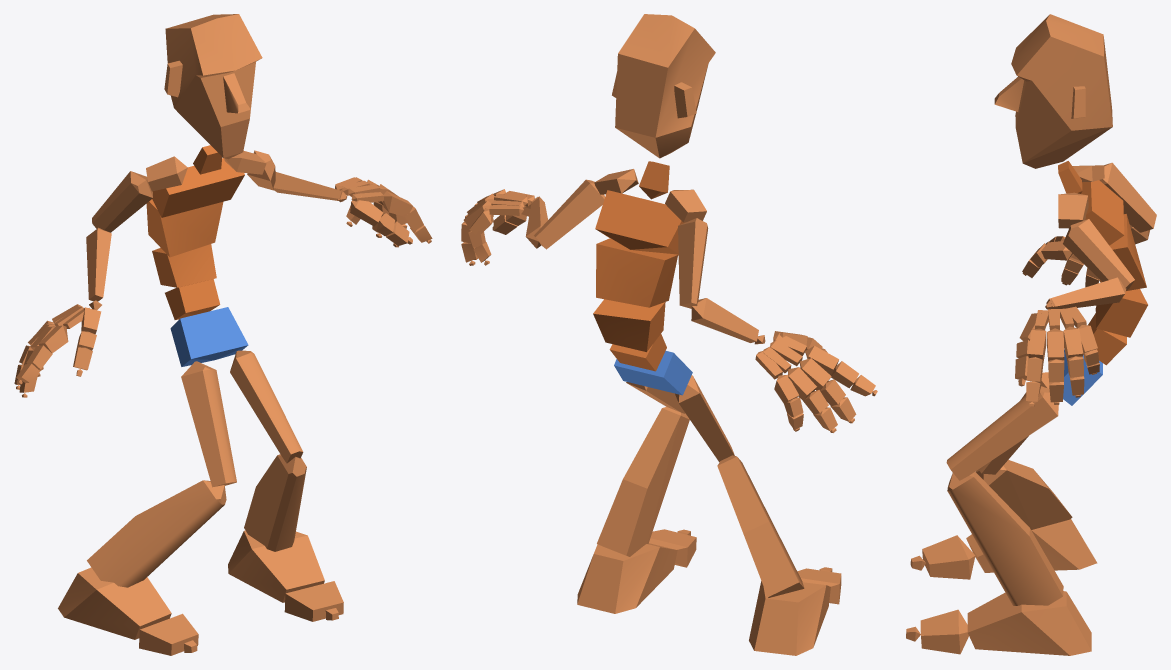
File: prueba251.obj
The picture shows the model from 3 angles, left to right: view 1: azimuth 30°, elevation 25°; view 2: azimuth 150°, elevation 25°; view 3: azimuth 270°, elevation 25°; orthographic projection. The views are drawn at different scales.
Parts seen in each view (by area): view 1: BOPED_Head, BOPED_R_leg, BOPED_R_foot, BOPED_R_foot01, BOPED_L_leg, BOPED_R_legup, Bone01, BOPED_L_legup, Bone04, Bone05, Bone03, BOPED_R_arm_upper (+8 smaller); view 2: BOPED_Head, BOPED_L_leg, BOPED_R_foot01, BOPED_R_leg, BOPED_R_foot, Bone04, Bone05, Bone03, BOPED_R_arm_upper, BOPED_L_arm_upper, BOPED_R_legup, Bone01 (+8 smaller); view 3: BOPED_Head, BOPED_L_leg, BOPED_R_foot01, BOPED_L_legup, BOPED_R_leg, BOPED_R_foot, BOPED_L_arm_upper, Bone05, BOPED_R_foot_toe01, BOPED_R_foot_toe04, Bone03, BOPED_R_arm_upper (+15 smaller).
Boxes of the visible parts, x1,y1,x2,y2 form: BOPED_Head: (164,14,262,159); BOPED_R_leg: (87,480,226,587); BOPED_R_foot: (58,567,171,639); BOPED_R_foot01: (228,530,324,602); BOPED_L_leg: (244,454,306,551); BOPED_R_legup: (181,361,236,487); Bone01: (170,307,248,366); BOPED_L_legup: (230,350,303,463); Bone04: (146,199,223,257); Bone05: (152,158,244,217); Bone03: (152,244,216,287); BOPED_R_arm_upper: (92,171,152,232); BOPED_Head: (612,14,715,158); BOPED_L_leg: (597,407,689,556); BOPED_R_foot01: (577,543,677,613); BOPED_R_leg: (717,455,804,597); BOPED_R_foot: (749,581,830,655); Bone04: (596,238,677,307); Bone05: (595,190,685,255); Bone03: (593,299,665,352); BOPED_R_arm_upper: (678,218,708,308); BOPED_L_arm_upper: (534,179,604,249); BOPED_R_legup: (675,375,734,462); Bone01: (614,351,692,395); BOPED_Head: (994,14,1112,168); BOPED_L_leg: (947,471,1063,605); BOPED_R_foot01: (967,591,1091,655); BOPED_L_legup: (946,386,1058,480); BOPED_R_leg: (975,460,1072,529); BOPED_R_foot: (966,519,1097,572); BOPED_L_arm_upper: (1063,219,1134,290); Bone05: (1081,180,1124,245); BOPED_R_foot_toe01: (922,535,975,579); BOPED_R_foot_toe04: (920,609,968,654); Bone03: (1095,289,1147,337); BOPED_R_arm_upper: (1099,162,1156,232).
Size of the model in its own units: 130 by 175 by 66.66.
